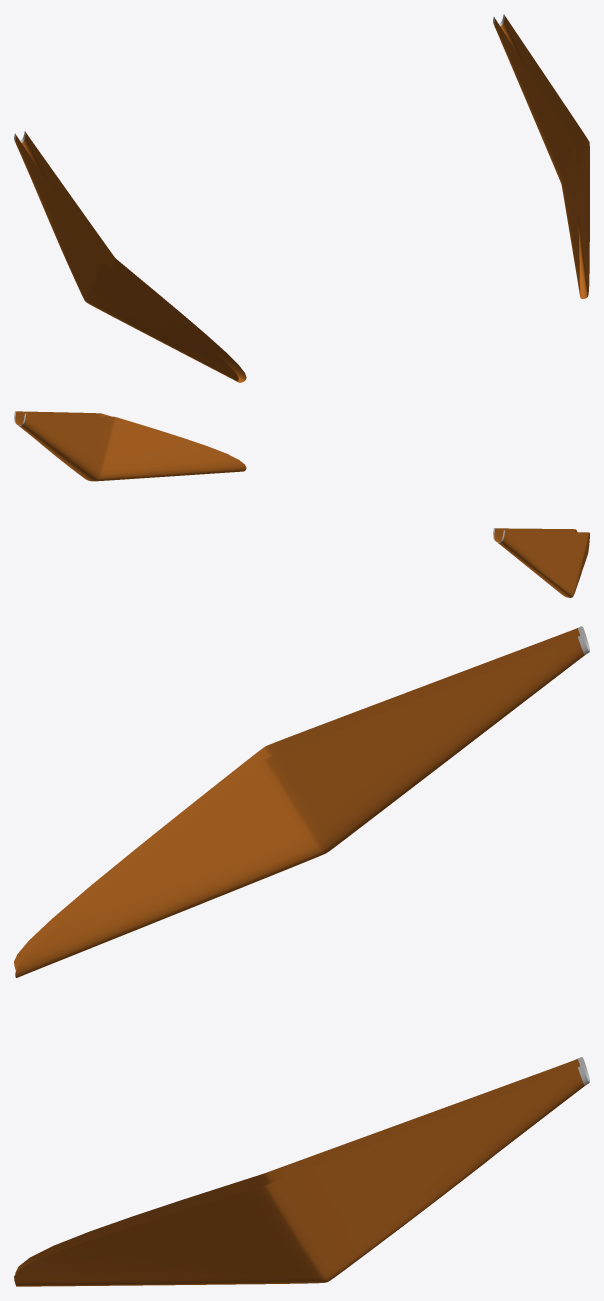
The model's file is Wolf_Eyes.gltf.
The picture shows the model from 3 angles, top to bottom: view 1: azimuth 30°, elevation 25°; view 2: azimuth 150°, elevation 25°; view 3: azimuth 270°, elevation 25°; orthographic projection. The views are drawn at different scales.
Parts seen in each view (by area): view 1: HeadCockpit.007; view 2: HeadCockpit.007; view 3: HeadCockpit.007.
Part boxes in pixels (bbox=[...]): HeadCockpit.007: bbox=[14, 14, 589, 382]; HeadCockpit.007: bbox=[14, 411, 589, 597]; HeadCockpit.007: bbox=[14, 626, 589, 1286].
Size of the model in its own units: 2.52 by 0.7624 by 1.4.
